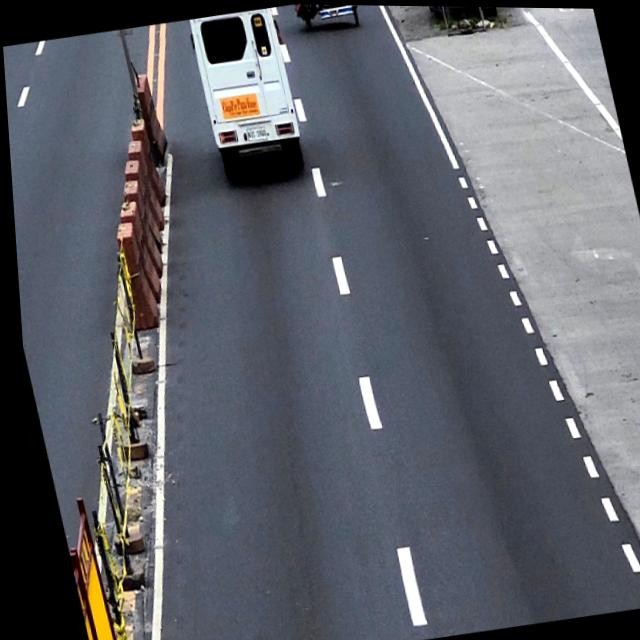Car: (185, 6, 309, 184)
License-Plate: (243, 125, 266, 142)
Tricycle: (299, 3, 364, 33)
